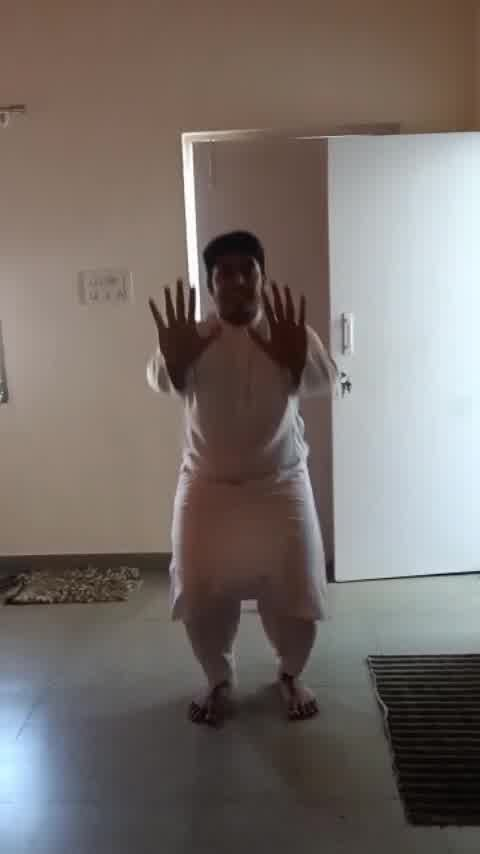duck: (139, 226, 384, 727)
